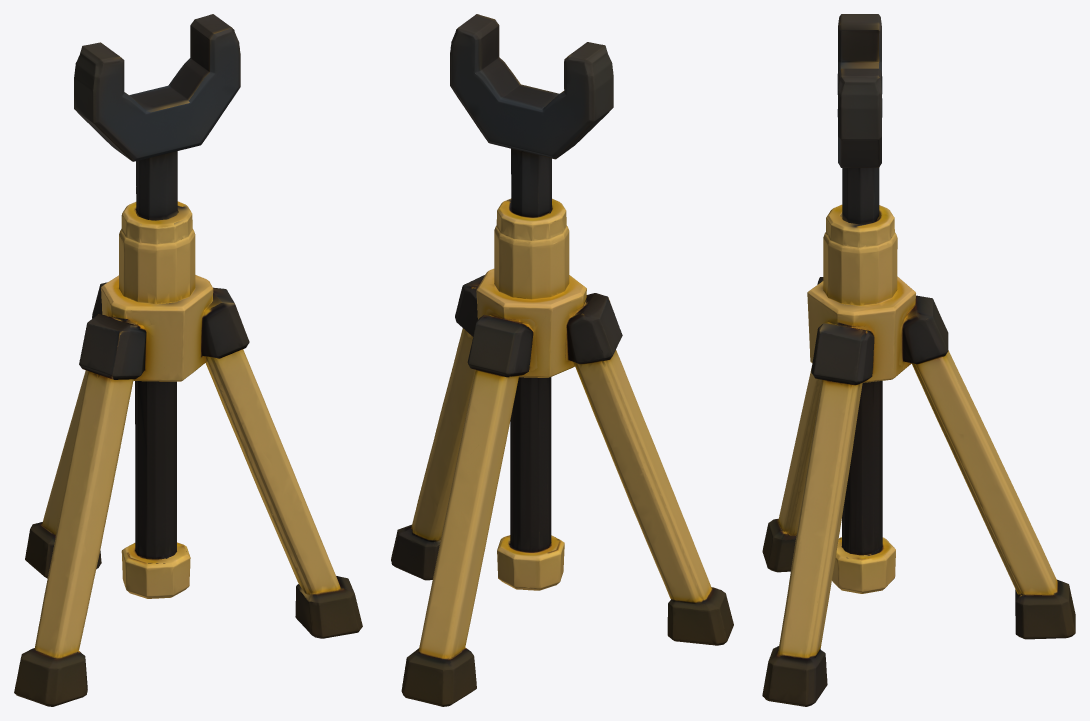
Rendered from JackStand.fbx.
3 renders of one model, left to right at view 1: azimuth 30°, elevation 25°; view 2: azimuth 150°, elevation 25°; view 3: azimuth 270°, elevation 25°, orthographic. The views are drawn at different scales.
Parts seen in each view (by area): view 1: texture_pbr_v128; view 2: texture_pbr_v128; view 3: texture_pbr_v128.
Boxes of the visible parts, bbox=[...] form: texture_pbr_v128: bbox=[14, 14, 362, 706]; texture_pbr_v128: bbox=[391, 14, 733, 706]; texture_pbr_v128: bbox=[762, 14, 1075, 706].
Size of the model in its own units: 58.4 by 97.58 by 47.56.
Materials: 1 (1 with a texture image).
